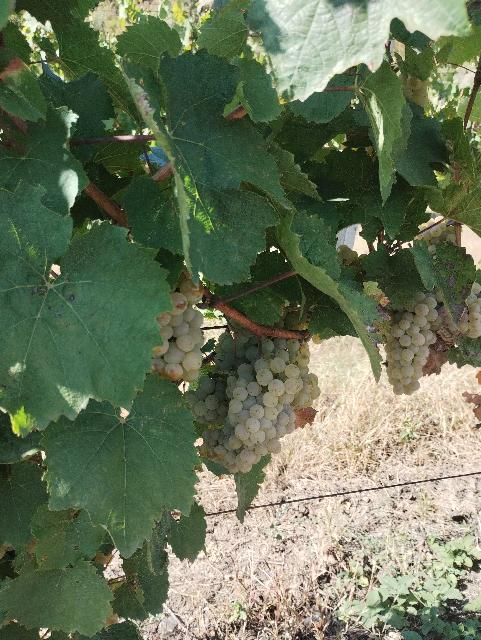grapes: (201, 352, 321, 472), (385, 291, 445, 395)
